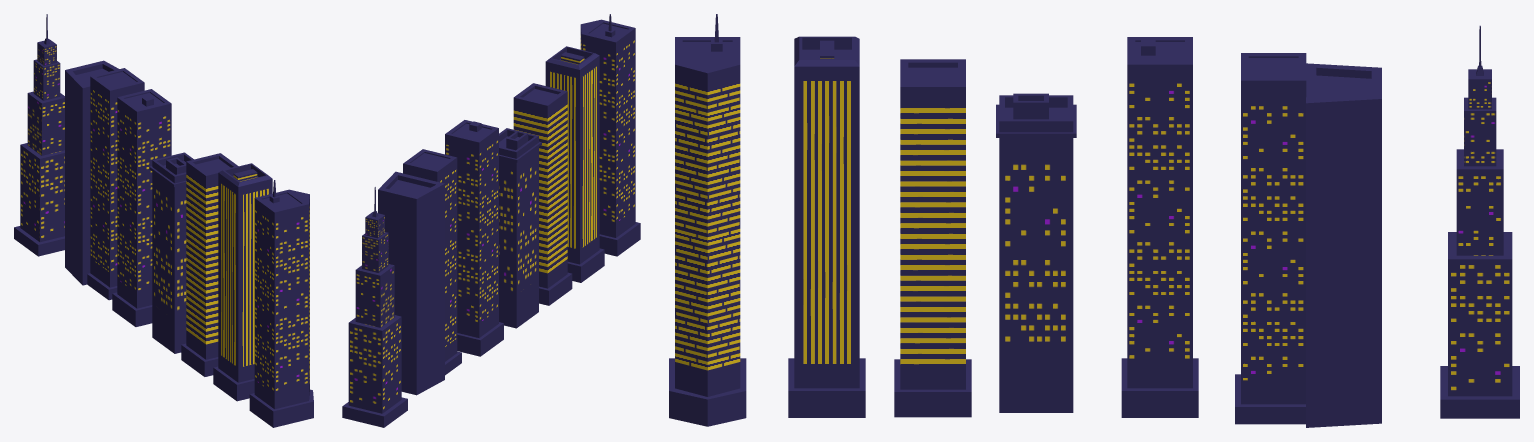
The model's file is Buildings.fbx.
3 renders of one model, left to right at view 1: azimuth 30°, elevation 25°; view 2: azimuth 150°, elevation 25°; view 3: azimuth 270°, elevation 25°, orthographic. The views are drawn at different scales.
Parts seen in each view (by area): view 1: Building_7, Building_2, Building_3, Building_6, Building_1, Building_5, Building_4; view 2: Building_2, Building_3, Building_1, Building_7, Building_6, Building_4, Building_5; view 3: Building_2, Building_7, Building_6, Building_3, Building_5, Building_4, Building_1.
Boxes of the visible parts, x1,y1,x2,y2 form: Building_7: (249, 180, 313, 427); Building_2: (65, 60, 144, 300); Building_3: (112, 89, 171, 326); Building_6: (213, 163, 272, 401); Building_1: (14, 14, 64, 256); Building_5: (181, 153, 238, 376); Building_4: (149, 152, 193, 353); Building_2: (378, 149, 461, 395); Building_3: (445, 120, 503, 356); Building_1: (342, 187, 407, 427); Building_7: (580, 14, 640, 256); Building_6: (545, 46, 604, 282); Building_4: (499, 128, 541, 328); Building_5: (513, 83, 572, 305); Building_2: (1235, 53, 1381, 427); Building_7: (669, 14, 746, 426); Building_6: (788, 36, 865, 417); Building_3: (1121, 37, 1198, 417); Building_5: (894, 59, 971, 417); Building_4: (996, 93, 1076, 412); Building_1: (1440, 25, 1519, 418).
Size of the model in its own units: 3432 by 14357 by 28825.
